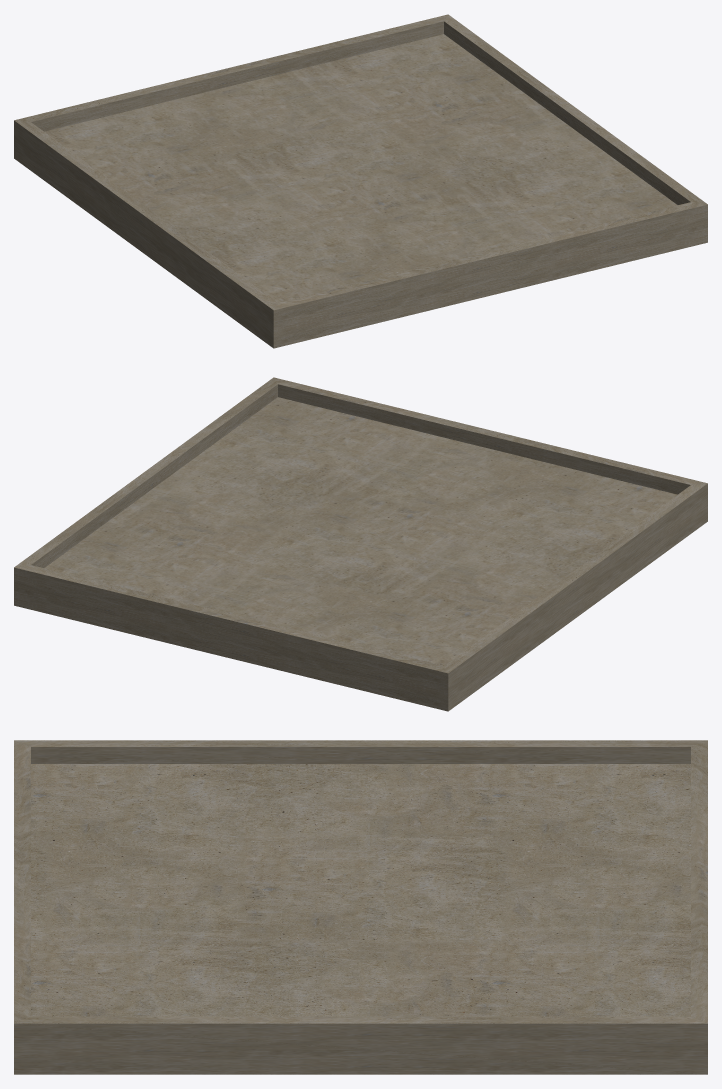
File: vantage-rooftop.glb
The picture shows the model from 3 angles, top to bottom: view 1: azimuth 30°, elevation 25°; view 2: azimuth 150°, elevation 25°; view 3: azimuth 270°, elevation 25°; orthographic projection. The views are drawn at different scales.
Parts seen in each view (by area): view 1: vantage-rooftop.001; view 2: vantage-rooftop.001; view 3: vantage-rooftop.001.
Part boxes in pixels (x1,y1,x2,y2): vantage-rooftop.001: (14, 14, 707, 348); vantage-rooftop.001: (14, 377, 707, 711); vantage-rooftop.001: (14, 740, 707, 1074).
Bounding box in the file's own units: 34.75 × 2.94 × 36.
Materials: 1 (1 with a texture image).
